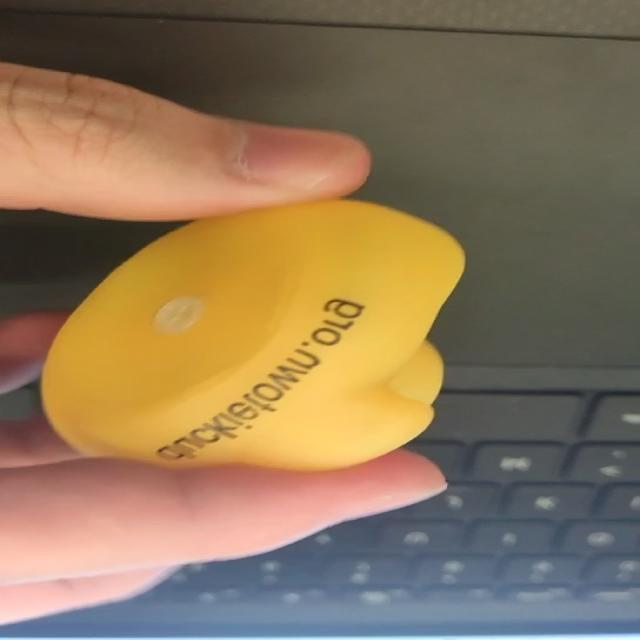rubber-duck: (41, 199, 463, 468)
